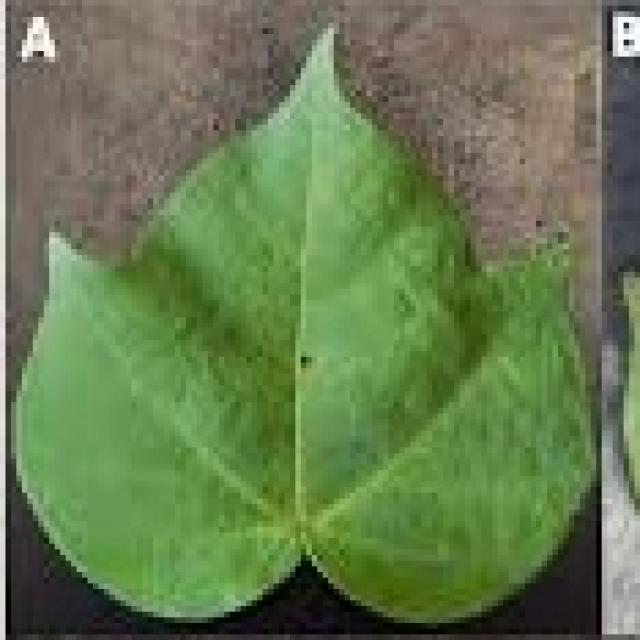Healthy Leaf: (105, 280, 508, 526)
